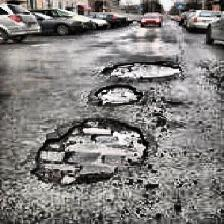pothole: (27, 117, 147, 188), (100, 61, 182, 79), (93, 84, 143, 108)
